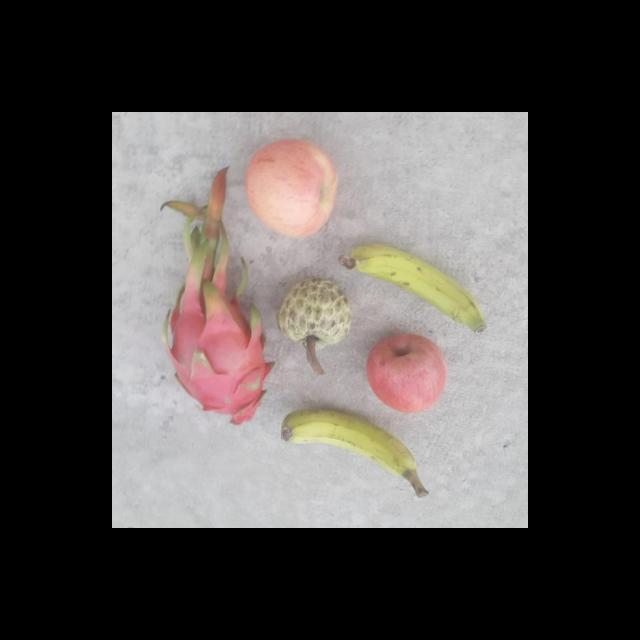Sakya fruit: (274, 274, 354, 356)
apple: (243, 135, 341, 239), (366, 331, 448, 414)
banana: (281, 408, 429, 497), (348, 244, 488, 334)
pitaya: (163, 292, 270, 426)
